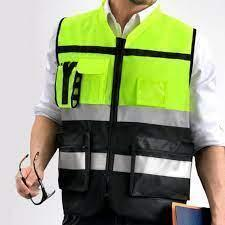Vest: (59, 9, 193, 199)
